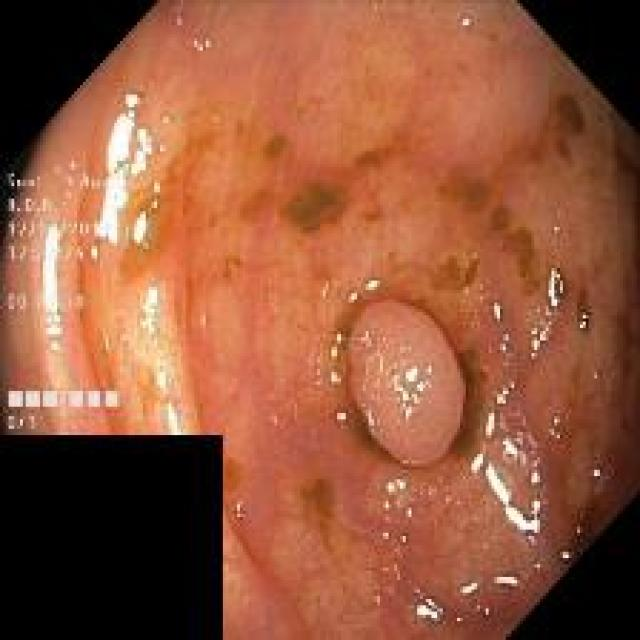Polyps: (348, 299, 466, 467)
